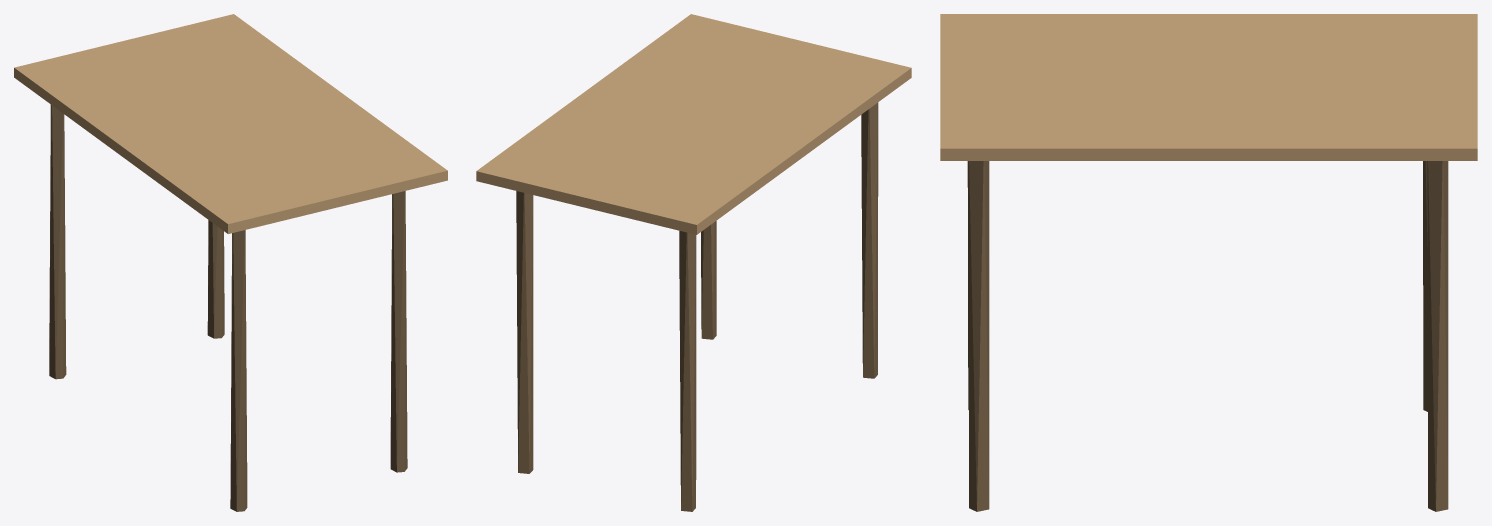
The model's file is wood1.fbx.
3 views of the same model, side by side, from view 1: azimuth 30°, elevation 25°; view 2: azimuth 150°, elevation 25°; view 3: azimuth 270°, elevation 25° (orthographic). The views are drawn at different scales.
Visible parts, largest first — view 1: Cube, Cylinder.003, Cylinder, Cylinder.002, Cylinder.001; view 2: Cube, Cylinder.001, Cylinder.002, Cylinder.003, Cylinder; view 3: Cube, Cylinder.001, Cylinder, Cylinder.002.
Boxes of the visible parts, x1,y1,x2,y2 form: Cube: (14, 14, 447, 233); Cylinder.003: (230, 230, 247, 511); Cylinder: (390, 191, 407, 472); Cylinder.002: (49, 104, 66, 379); Cylinder.001: (207, 220, 224, 338); Cube: (476, 14, 911, 234); Cylinder.001: (516, 191, 533, 473); Cylinder.002: (679, 231, 696, 511); Cylinder.003: (861, 102, 878, 378); Cylinder: (701, 221, 716, 339); Cube: (940, 14, 1477, 160); Cylinder.001: (1427, 161, 1448, 511); Cylinder: (968, 161, 989, 511); Cylinder.002: (1423, 161, 1427, 411).
Bounding box in the file's own units: 400 × 525 × 674.
